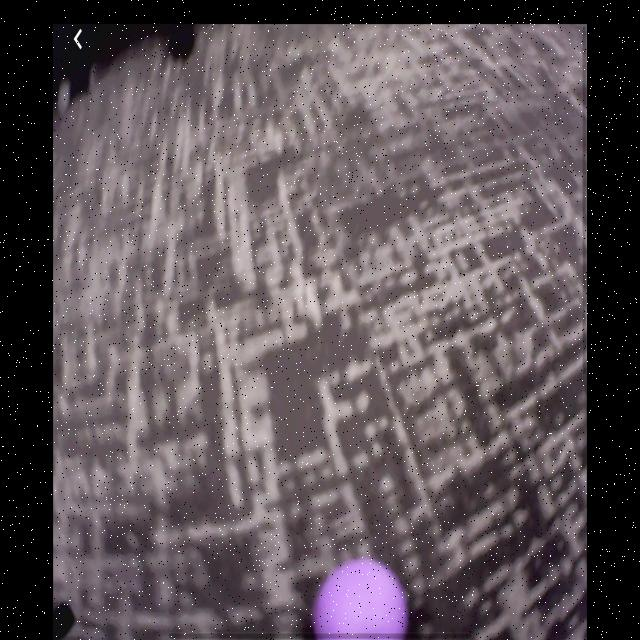ball: (318, 560, 407, 640)
